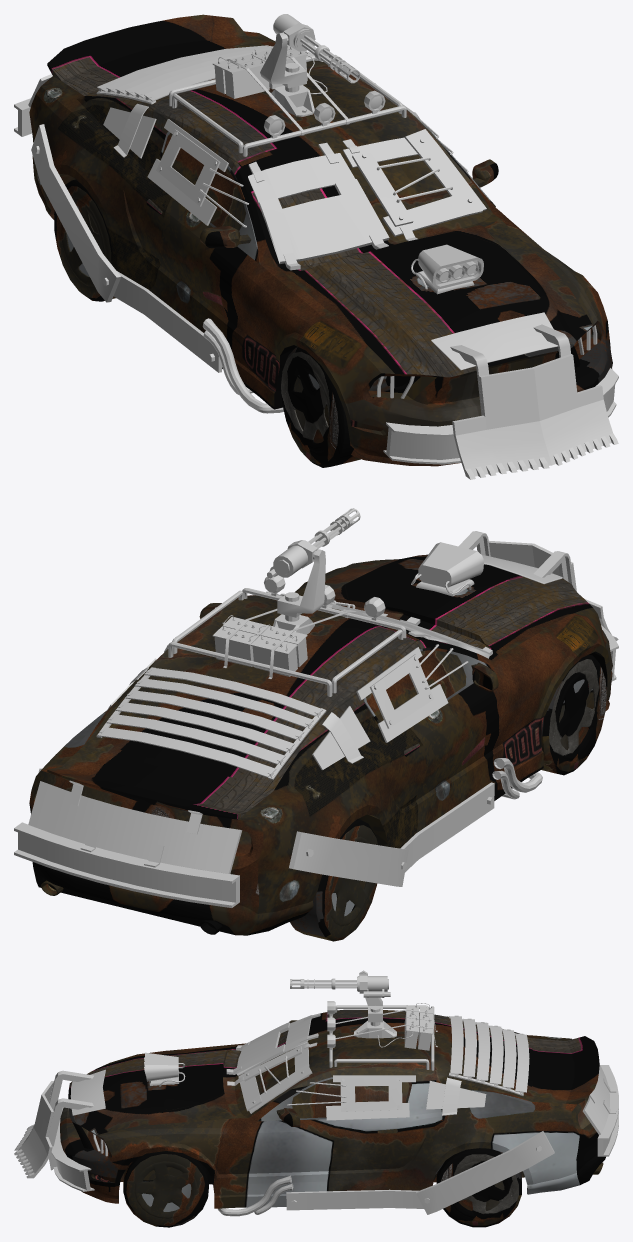
Rendered from mh_vehicle_mustang_gianmarco_testIMportTool_000.fbx.
3 renders of one model, top to bottom at view 1: azimuth 30°, elevation 25°; view 2: azimuth 150°, elevation 25°; view 3: azimuth 270°, elevation 25°, orthographic. The views are drawn at different scales.
Parts seen in each view (by area): view 1: CarBody, StaticProtections, FrontChaseProtection, FrontGlassProtection_R, FrontGlassProtection_L, Wheel_FR, BodyProtection_R, SideGlassProtection_R1, FrontBumper, LowBodyProtection_R, Wheel_RR, RearSideGlassProtection_R (+2 smaller); view 2: CarBody, StaticProtections, RearBumper, RearLowBumper, Wheel_FR, BodyProtection_R, Wheel_RR, SideGlassProtection_R1, FrontChaseProtection, LowBodyProtection_R, RearSideGlassProtection_R, Gun (+2 smaller); view 3: CarBody, StaticProtections, Wheel_FL, BodyProtection_L, Wheel_RL, FrontChaseProtection, SideGlassProtection_L, LowBodyProtection_L, FrontGlassProtection_L, FrontGlassProtection_R, RearSideGlassProtection_L, Gun (+4 smaller).
Part boxes in pixels (x1=…): CarBody: x1=29, y1=14, x2=612, y2=466; StaticProtections: x1=96, y1=45, x2=597, y2=413; FrontChaseProtection: x1=450, y1=324, x2=618, y2=479; FrontGlassProtection_R: x1=248, y1=142, x2=389, y2=270; FrontGlassProtection_L: x1=342, y1=129, x2=486, y2=241; Wheel_FR: x1=281, y1=347, x2=360, y2=467; BodyProtection_R: x1=31, y1=124, x2=120, y2=302; SideGlassProtection_R1: x1=147, y1=119, x2=248, y2=227; FrontBumper: x1=383, y1=368, x2=618, y2=464; LowBodyProtection_R: x1=113, y1=271, x2=222, y2=372; Wheel_RR: x1=54, y1=179, x2=115, y2=301; RearSideGlassProtection_R: x1=103, y1=103, x2=156, y2=158; CarBody: x1=29, y1=554, x2=612, y2=935; StaticProtections: x1=96, y1=542, x2=562, y2=799; RearBumper: x1=28, y1=780, x2=242, y2=873; RearLowBumper: x1=14, y1=822, x2=239, y2=907; Wheel_FR: x1=541, y1=654, x2=606, y2=775; BodyProtection_R: x1=289, y1=831, x2=408, y2=886; Wheel_RR: x1=290, y1=819, x2=377, y2=941; SideGlassProtection_R1: x1=356, y1=644, x2=468, y2=742; FrontChaseProtection: x1=458, y1=531, x2=618, y2=640; LowBodyProtection_R: x1=400, y1=782, x2=494, y2=872; RearSideGlassProtection_R: x1=312, y1=706, x2=370, y2=770; Gun: x1=267, y1=508, x2=360, y2=578; CarBody: x1=60, y1=1009, x2=605, y2=1208; StaticProtections: x1=70, y1=1001, x2=529, y2=1216; Wheel_FL: x1=123, y1=1151, x2=208, y2=1227; BodyProtection_L: x1=416, y1=1131, x2=554, y2=1214; Wheel_RL: x1=436, y1=1148, x2=521, y2=1227; FrontChaseProtection: x1=14, y1=1070, x2=93, y2=1178; SideGlassProtection_L: x1=287, y1=1075, x2=415, y2=1120; LowBodyProtection_L: x1=286, y1=1189, x2=423, y2=1210; FrontGlassProtection_L: x1=227, y1=1042, x2=317, y2=1113; FrontGlassProtection_R: x1=226, y1=1013, x2=320, y2=1075; RearSideGlassProtection_L: x1=426, y1=1077, x2=486, y2=1115; Gun: x1=290, y1=973, x2=390, y2=997.
Bounding box in the file's own units: 208 × 199 × 524.
